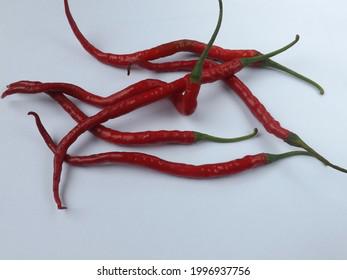Cabai: (29, 11, 341, 230)
